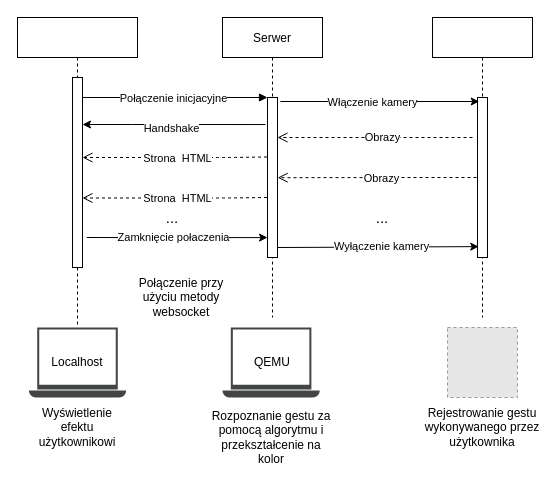
The diagram is 560 pixels wide and 484 high, and some of its shapes have lost their labels. Grey dashed boxes stand in for pictures. Here are the shapes that lost their labels. From the top down, the box of each, then its label:
(16, 16, 138, 328): Klient
(432, 16, 532, 318): Kamera
